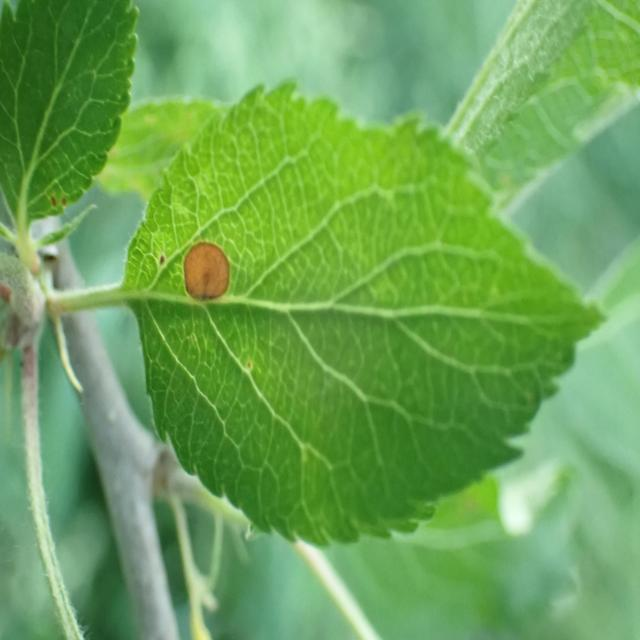Black Rot: (178, 232, 239, 312)
